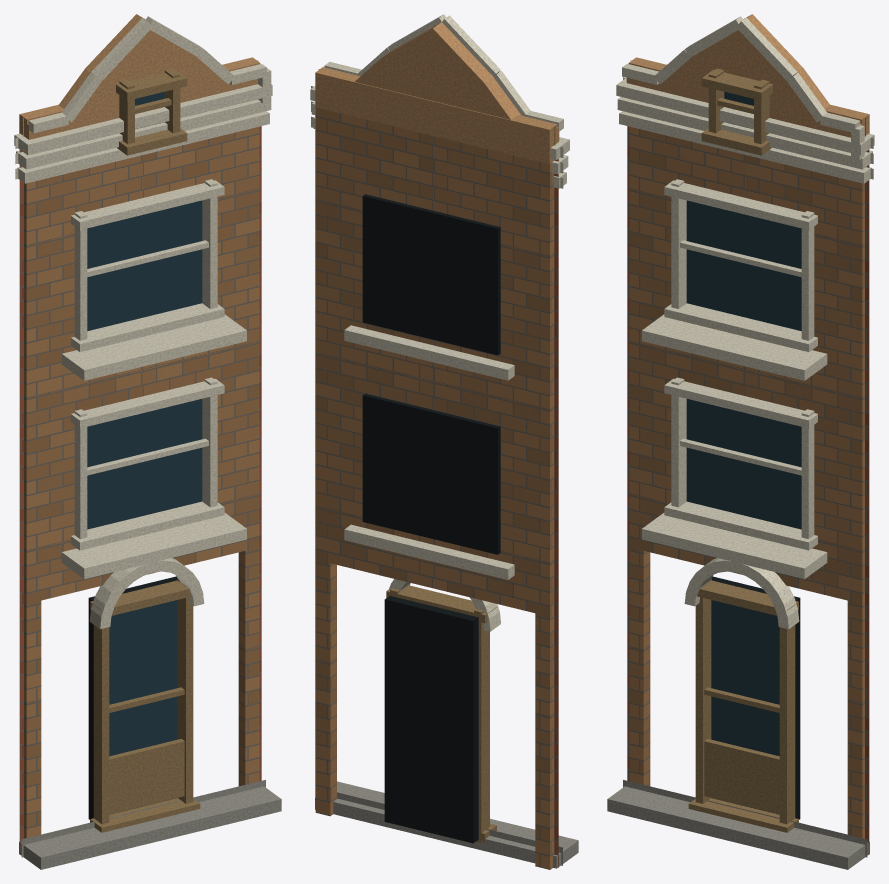
The model's file is VICT22_lod2.glb.
3 views of the same model, side by side, from view 1: azimuth 30°, elevation 25°; view 2: azimuth 150°, elevation 25°; view 3: azimuth 330°, elevation 25° (orthographic).
Visible parts, largest first — view 1: VICT22_FRONT_LOD2; view 2: VICT22_FRONT_LOD2; view 3: VICT22_FRONT_LOD2.
Boxes of the visible parts, x1=… form: VICT22_FRONT_LOD2: x1=14, y1=14, x2=281, y2=869; VICT22_FRONT_LOD2: x1=310, y1=14, x2=578, y2=869; VICT22_FRONT_LOD2: x1=607, y1=14, x2=874, y2=869.
Bounding box in the file's own units: 3.44 × 10.65 × 0.85.
9 materials, 7 textured.
